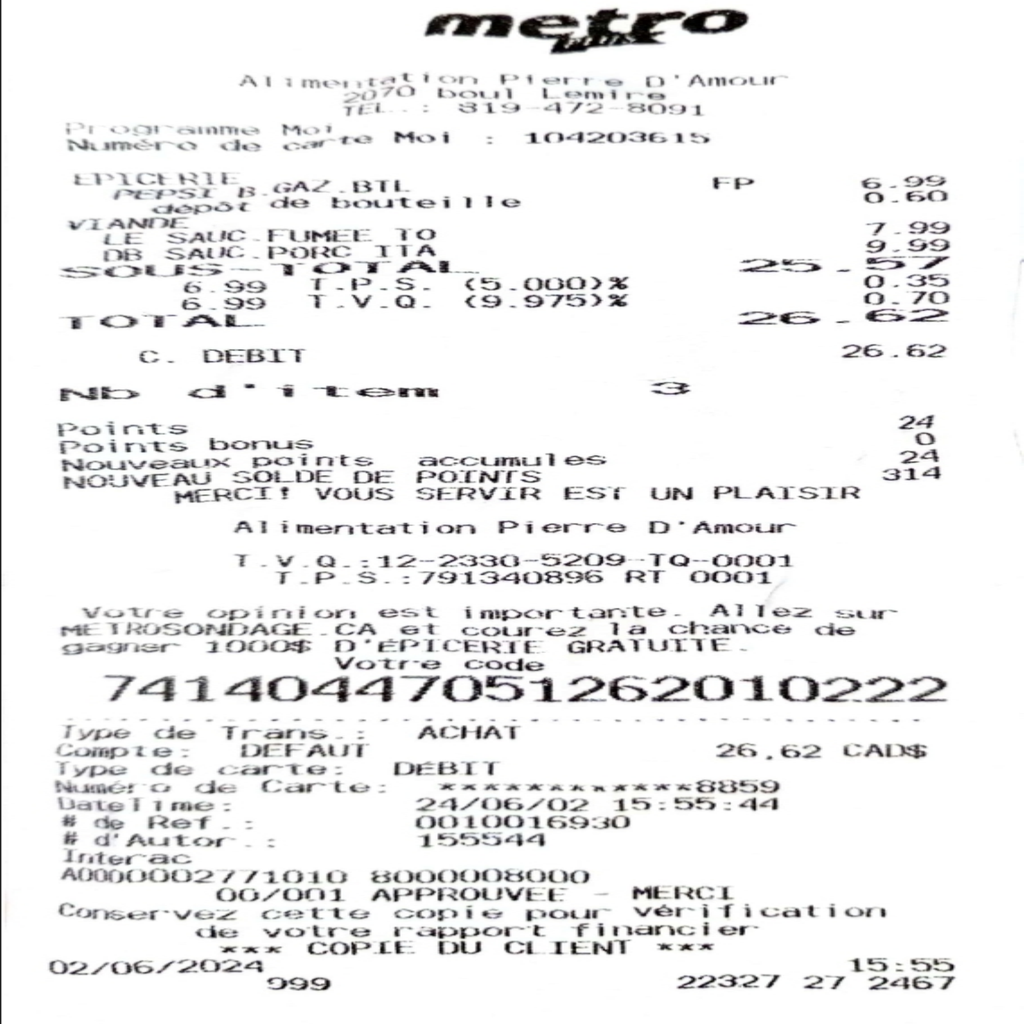recipt: (0, 0, 1018, 1022)
